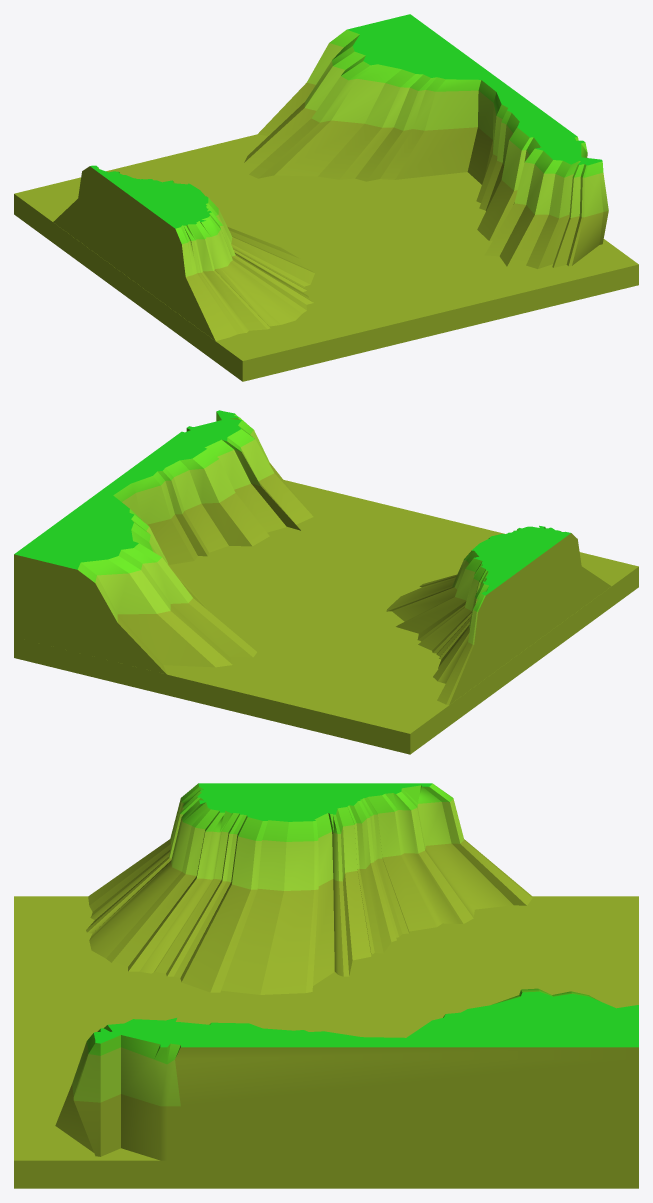
The model's file is Landscape.FBX.
3 renders of one model, top to bottom at view 1: azimuth 30°, elevation 25°; view 2: azimuth 150°, elevation 25°; view 3: azimuth 270°, elevation 25°, orthographic. The views are drawn at different scales.
Parts seen in each view (by area): view 1: Box001; view 2: Box001; view 3: Box001.
Part boxes in pixels (x1,y1,x2,y2): Box001: (14, 14, 638, 381); Box001: (14, 410, 638, 754); Box001: (14, 783, 638, 1188).
Size of the model in its own units: 40 by 10 by 40.
